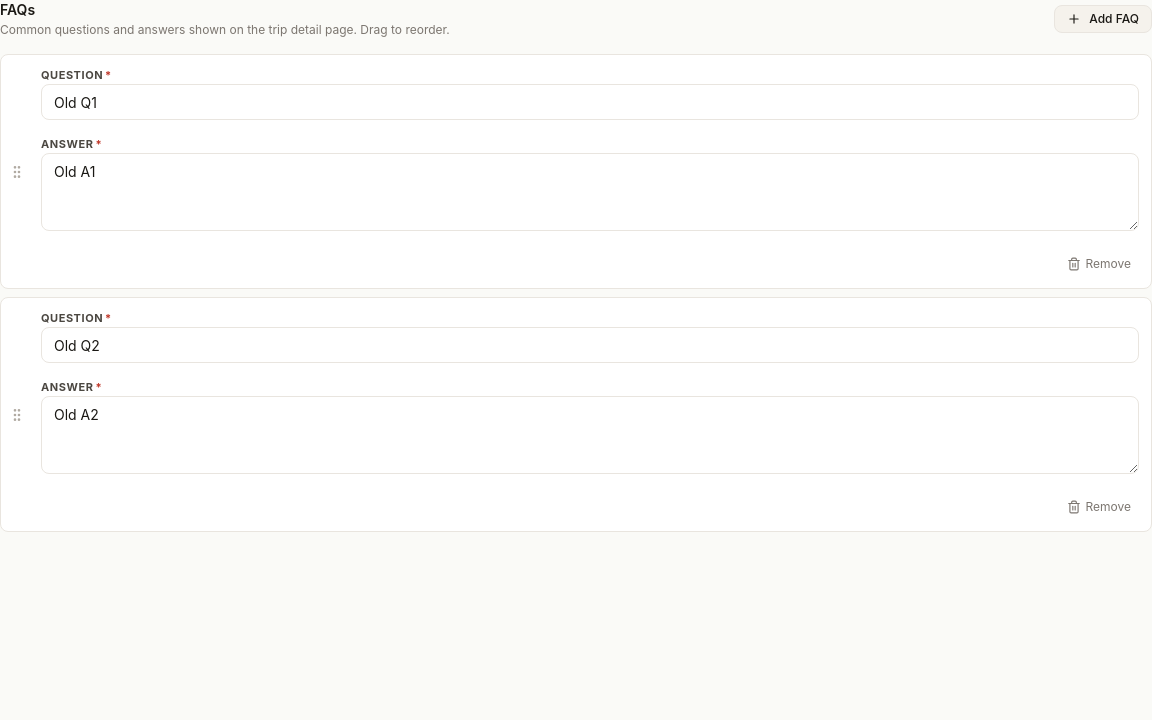
Scenario: FaqsTab › scrolls and focuses the new FAQ when Add FAQ is clicked
Click the button "Add FAQ" at coordinates (1103, 19), box [1054,5,1151,33]
(page scrolled)
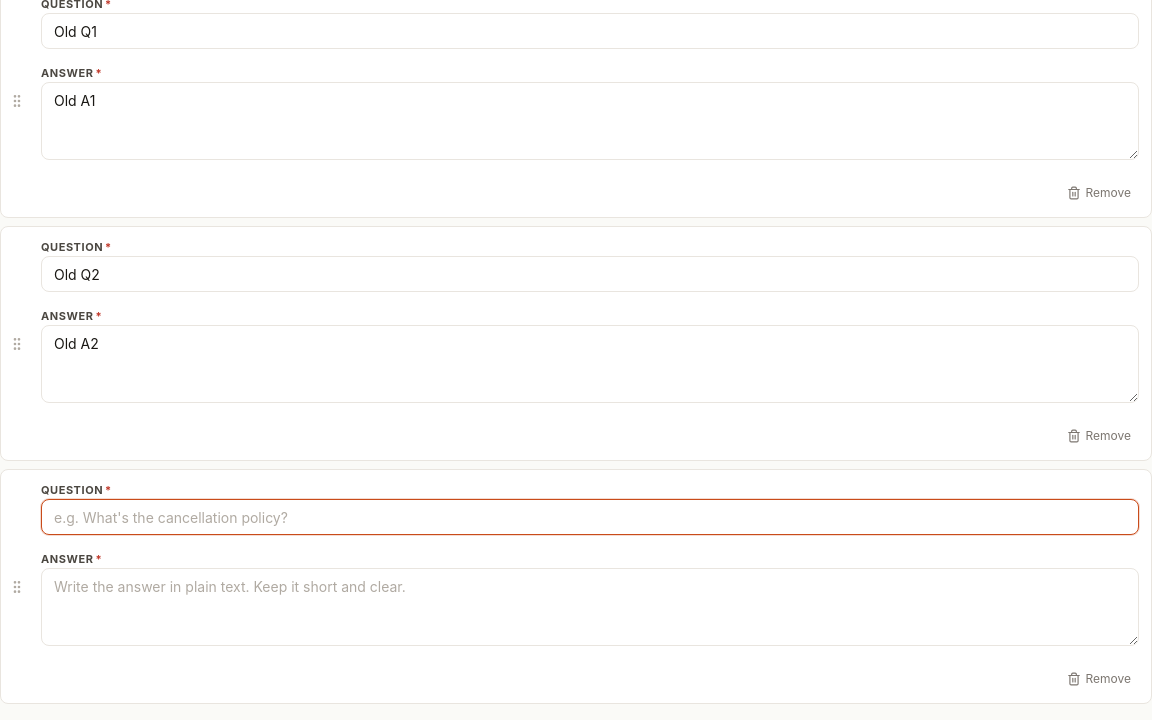
Check: the element showing "Question* Answer* Remove" is shown, box [41,478,1139,695]
